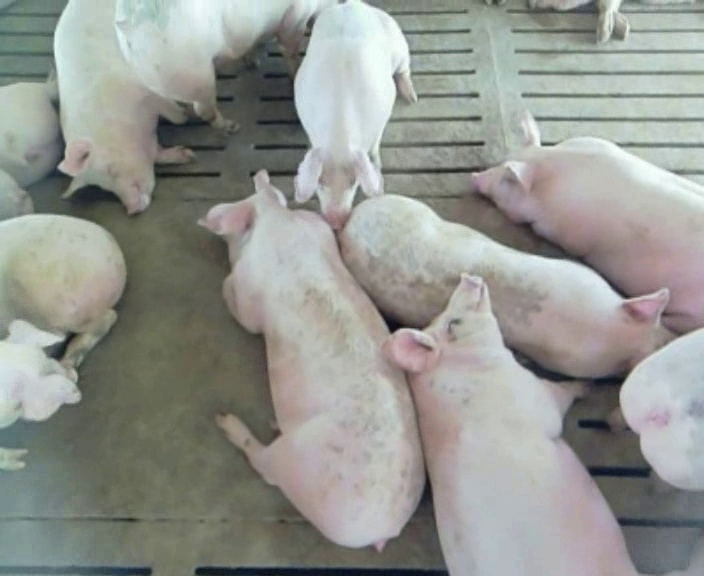pig: (199, 170, 423, 549), (384, 274, 635, 574), (339, 195, 670, 377), (472, 113, 703, 333), (54, 2, 197, 213), (294, 2, 416, 228), (115, 2, 320, 131), (607, 328, 703, 492), (0, 67, 62, 186)
